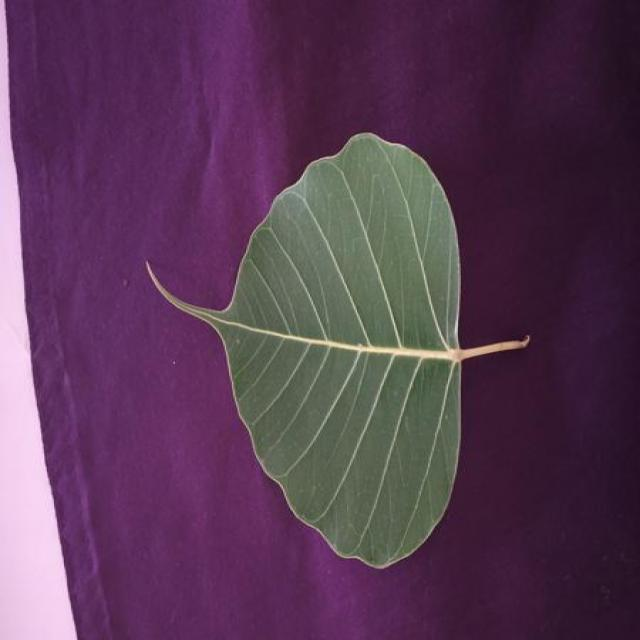arali: (147, 134, 530, 568)
